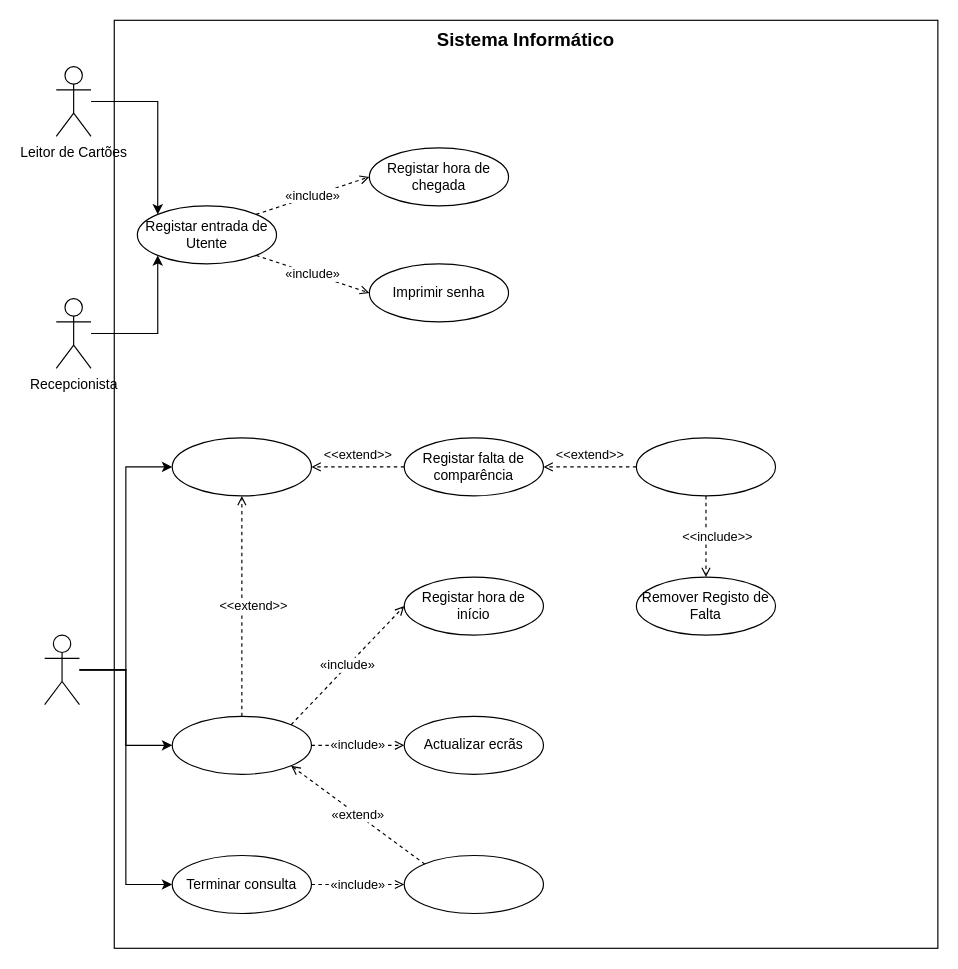
Some shapes in this 958 by 969 pixel diagram are drawn without their labels. The box of each missing label's shape, as (x1, y1, x2, y2) in pixels:
Aceitar consulta após atraso: (635, 437, 776, 496)
Chamar Próximo Utente: (171, 715, 311, 774)
Dar Tolerância de espera: (171, 437, 311, 496)
Médico: (44, 634, 79, 705)
Registar hora de fim: (403, 854, 543, 913)
